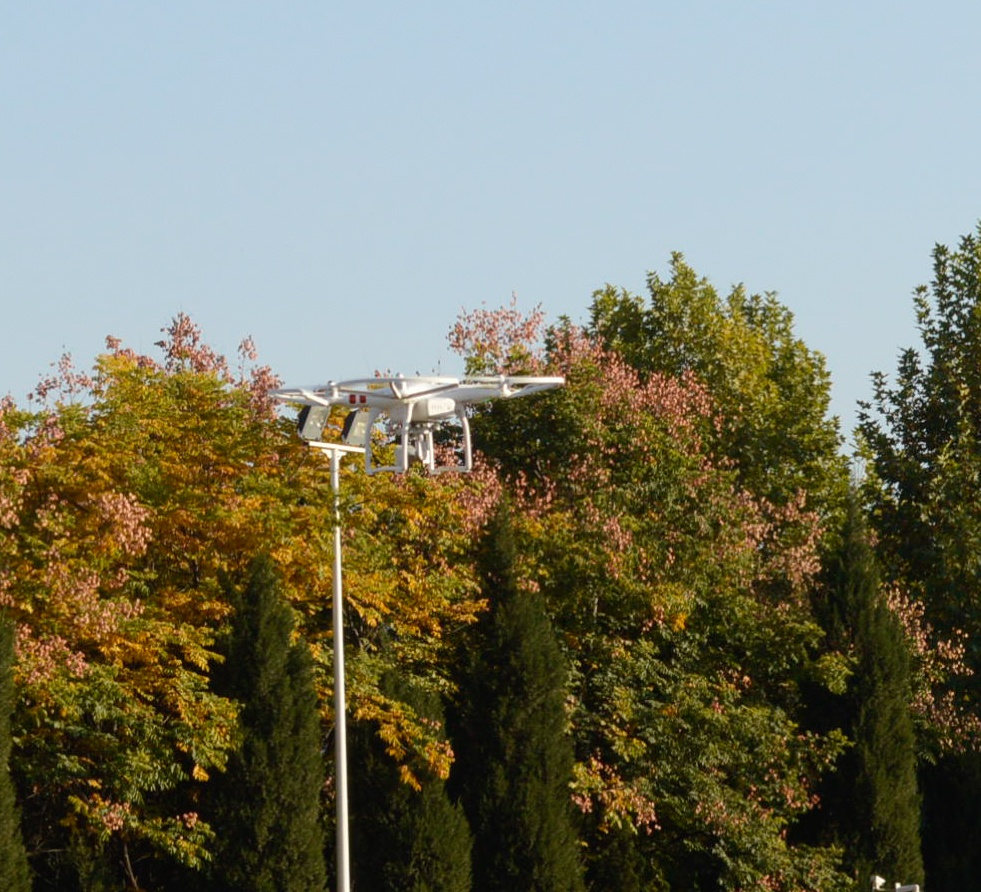DJI: (270, 372, 567, 479)
